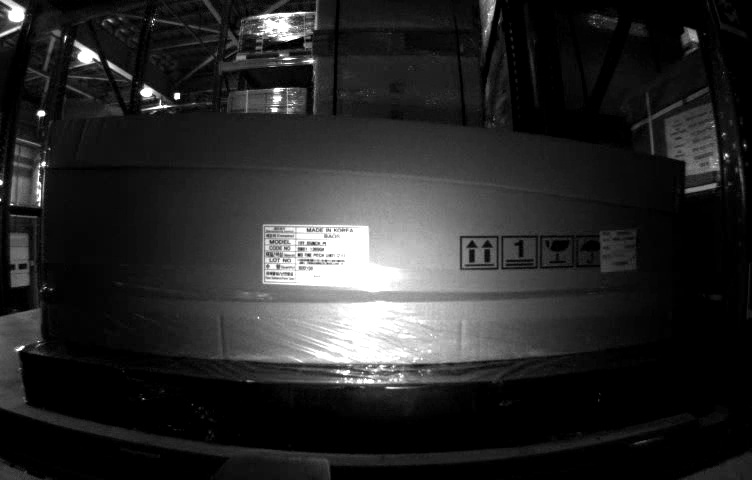True Barcode: (599, 227, 641, 273)
